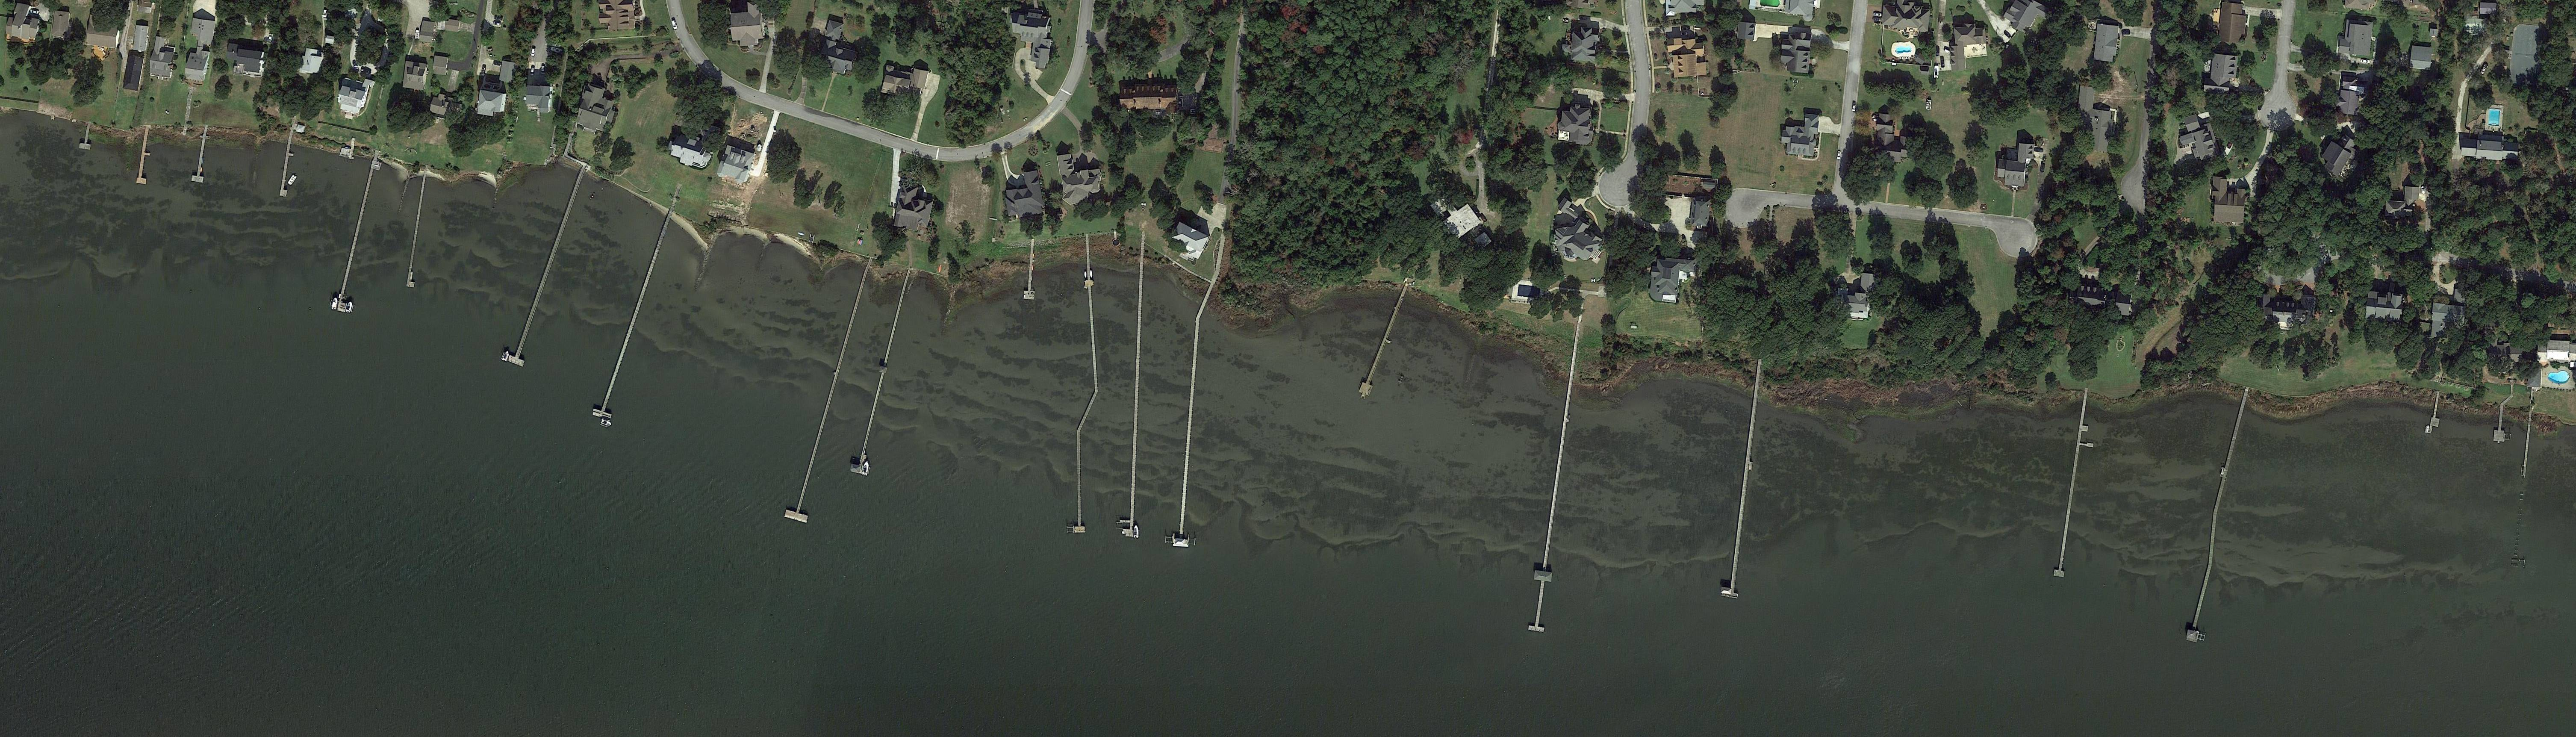harbor: (784, 271, 876, 524), (506, 169, 593, 368), (591, 222, 675, 419), (1525, 371, 1582, 634), (849, 281, 908, 476), (1720, 363, 1768, 599), (2054, 402, 2100, 579), (1171, 318, 1206, 548), (337, 159, 383, 314), (1117, 281, 1143, 538), (1357, 286, 1413, 401), (2213, 392, 2249, 514), (406, 176, 432, 289), (2185, 563, 2216, 643), (1084, 236, 1099, 386), (1073, 430, 1086, 533), (279, 133, 297, 197), (192, 128, 212, 184), (136, 128, 154, 185), (1022, 245, 1038, 300), (1078, 389, 1099, 430), (2428, 392, 2445, 435), (2494, 404, 2509, 443), (2208, 515, 2218, 563), (79, 123, 95, 151)
